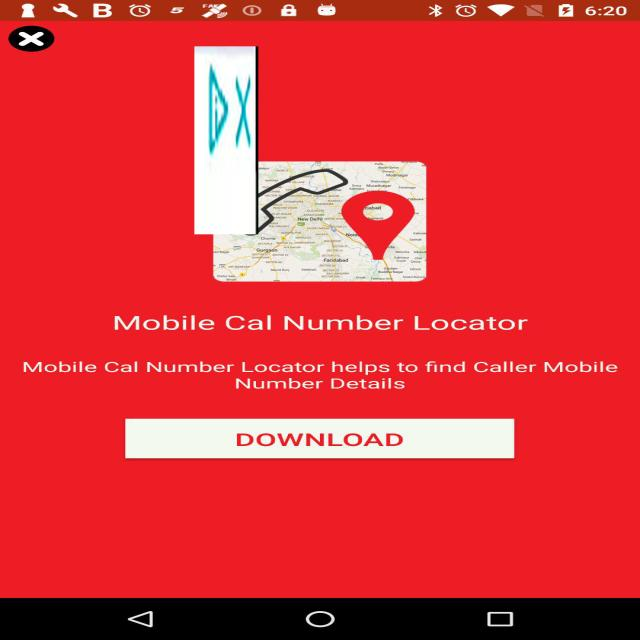sneaking: (194, 46, 258, 235)
